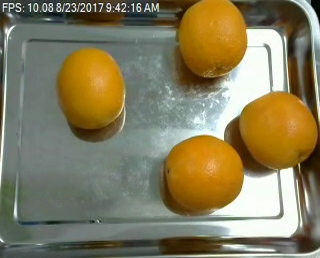Orange: (238, 90, 319, 169), (163, 135, 244, 210), (57, 46, 126, 128), (178, 1, 248, 77)
